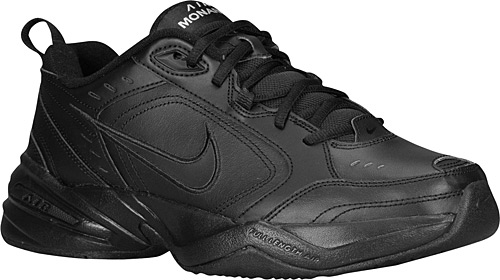nike: (73, 97, 225, 202)
